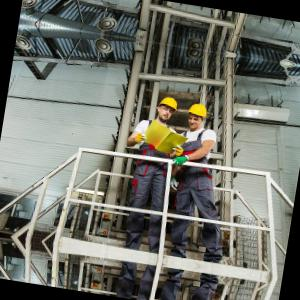helmet: (184, 99, 212, 131), (155, 92, 183, 121)
